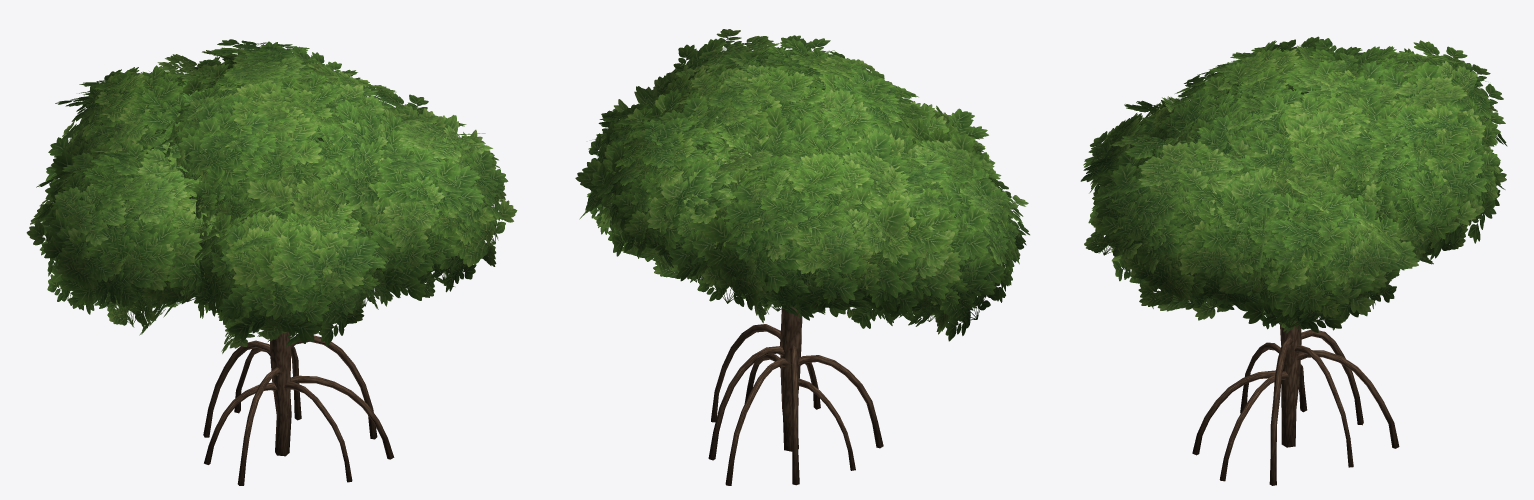
File: mangrove_a_lod1.glb
3 renders of one model, left to right at view 1: azimuth 30°, elevation 25°; view 2: azimuth 150°, elevation 25°; view 3: azimuth 270°, elevation 25°, orthographic. The views are drawn at different scales.
Parts seen in each view (by area): view 1: leaves, wood; view 2: leaves, wood; view 3: leaves, wood.
Boxes of the visible parts, x1,y1,x2,y2 form: leaves: [26, 39, 517, 353]; wood: [203, 331, 394, 485]; leaves: [575, 29, 1029, 341]; wood: [708, 306, 883, 485]; leaves: [1080, 36, 1507, 333]; wood: [1192, 321, 1399, 485].
Bounding box in the file's own units: 9.43 × 7.98 × 8.07.
Materials: 2 (2 with a texture image).
